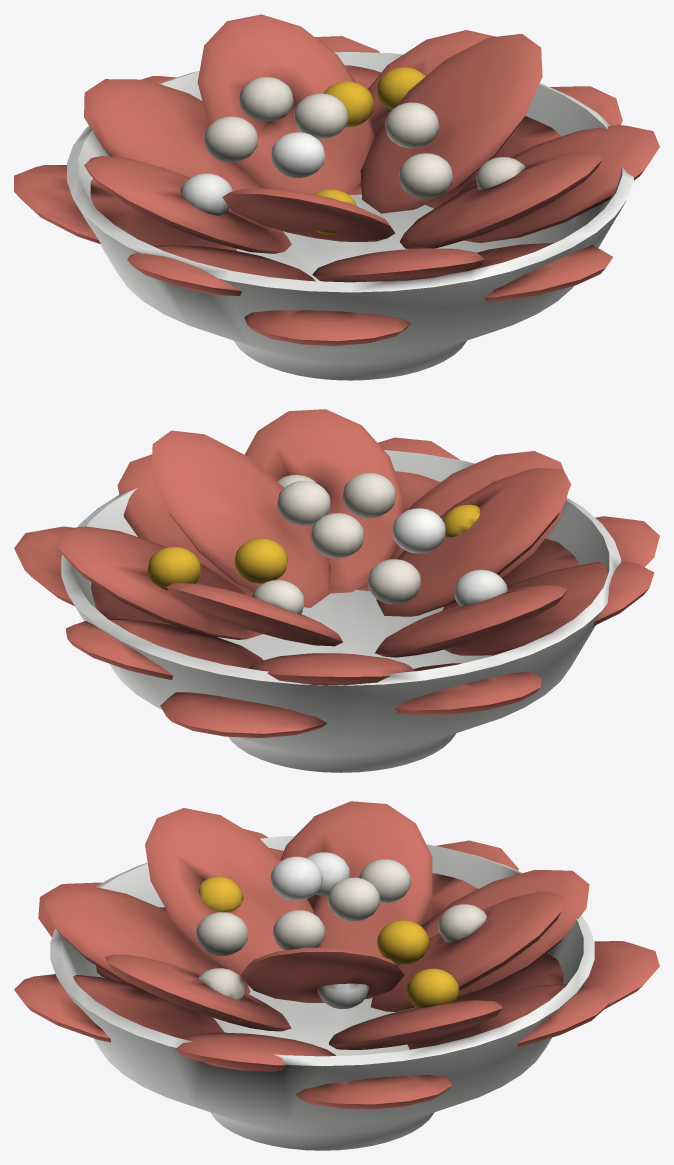
Rendered from meal_salad.glb.
The picture shows the model from 3 angles, top to bottom: view 1: azimuth 30°, elevation 25°; view 2: azimuth 150°, elevation 25°; view 3: azimuth 270°, elevation 25°; orthographic projection. The views are drawn at different scales.
Parts seen in each view (by area): view 1: PART; view 2: PART; view 3: PART.
Boxes of the visible parts, x1,y1,x2,y2 form: PART: (14, 14, 659, 380); PART: (14, 409, 659, 772); PART: (14, 801, 659, 1150).
Bounding box in the file's own units: 0.2909 × 0.1231 × 0.3061.
